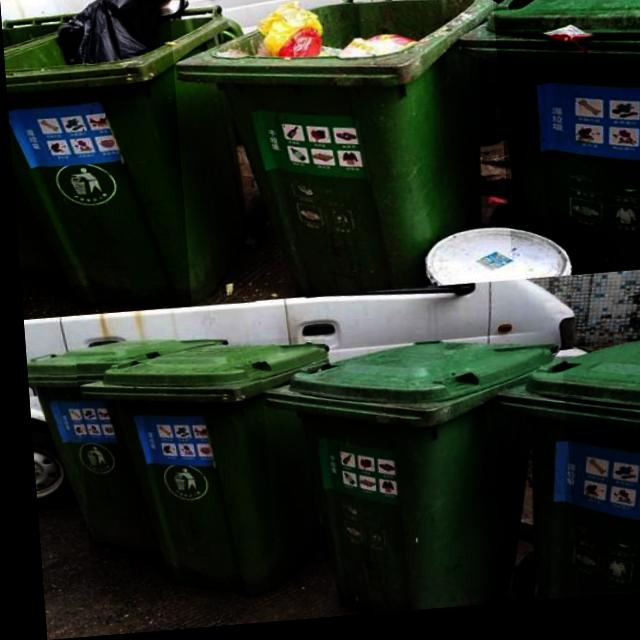garbage_bin: (253, 336, 569, 624), (70, 340, 334, 608), (453, 0, 640, 290), (21, 337, 232, 559), (486, 346, 640, 609)
overflow: (169, 0, 509, 309), (0, 0, 258, 318)
